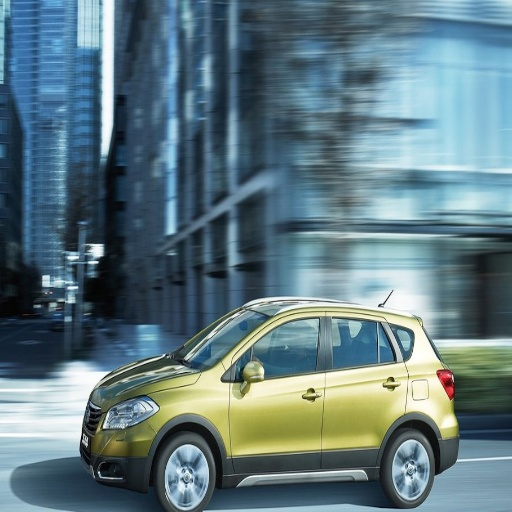back_glass: (408, 44, 479, 69)
back_left_door: (322, 311, 405, 467)
front_bumper: (81, 410, 156, 485)
front_glass: (178, 321, 236, 370)
front_left_door: (225, 310, 323, 469)
